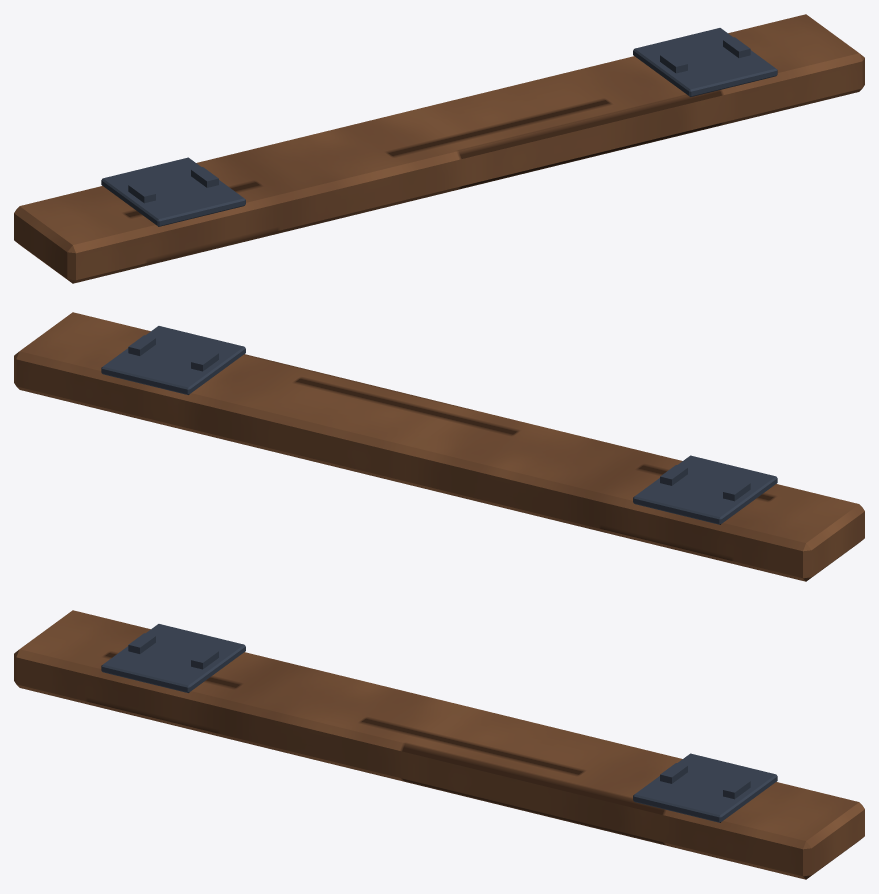
File: traviesa.glb
3 renders of one model, top to bottom at view 1: azimuth 30°, elevation 25°; view 2: azimuth 150°, elevation 25°; view 3: azimuth 330°, elevation 25°, orthographic.
Parts seen in each view (by area): view 1: Traviesa; view 2: Traviesa; view 3: Traviesa.
Part boxes in pixels (left/top/right/bottom): Traviesa: left=14, top=14, right=864, bottom=283; Traviesa: left=14, top=312, right=864, bottom=581; Traviesa: left=14, top=610, right=864, bottom=879.
Size of the model in its own units: 2.16 by 0.133 by 0.28.
Materials: 2 (1 with a texture image).
